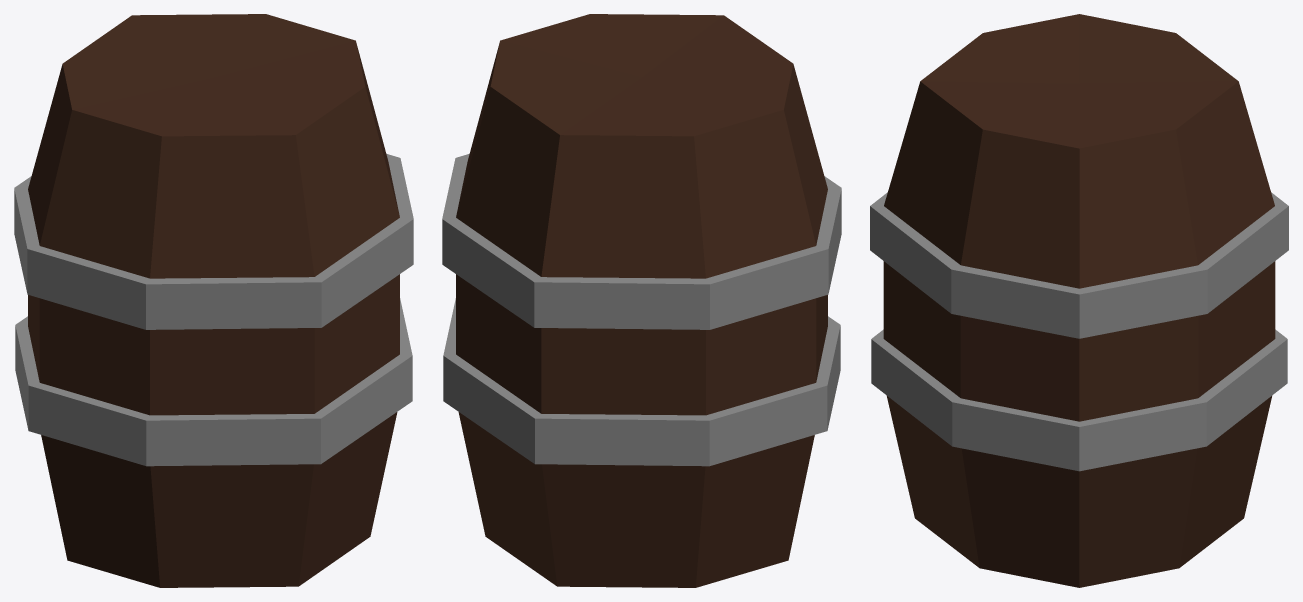
Rendered from Barrel.fbx.
The picture shows the model from 3 angles, left to right: view 1: azimuth 30°, elevation 25°; view 2: azimuth 150°, elevation 25°; view 3: azimuth 270°, elevation 25°; orthographic projection. The views are drawn at different scales.
Visible parts, largest first — view 1: Barrel; view 2: Barrel; view 3: Barrel.
Boxes of the visible parts, box(x1,y1,x2,y2) form: Barrel: box(14, 14, 413, 587); Barrel: box(442, 14, 841, 587); Barrel: box(870, 14, 1288, 587).
Bounding box in the file's own units: 1.34 × 1.54 × 1.34.
